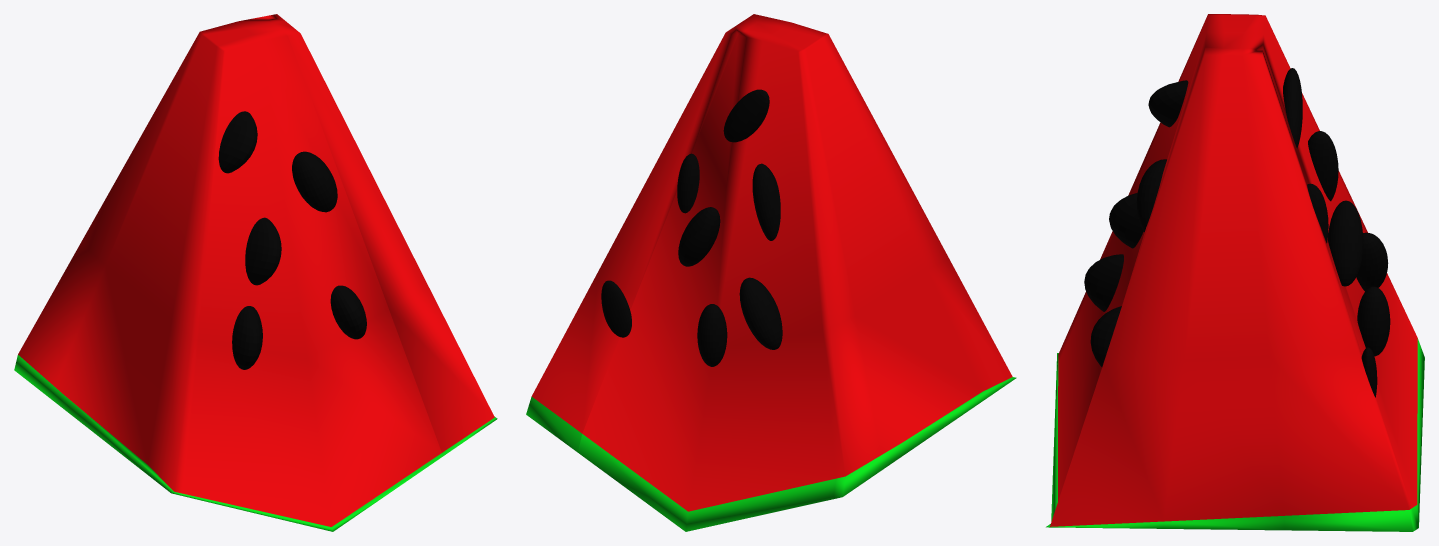
File: watermelon.glb
3 renders of one model, left to right at view 1: azimuth 30°, elevation 25°; view 2: azimuth 150°, elevation 25°; view 3: azimuth 270°, elevation 25°, orthographic. The views are drawn at different scales.
Parts seen in each view (by area): view 1: Cube, Sphere, Sphere.004, Sphere.003, Sphere.002, Sphere.001; view 2: Cube, Sphere.009, Sphere.008, Sphere.005, Sphere.010, Sphere.007, Sphere.011, Sphere.006; view 3: Cube, Sphere.008, Sphere.007, Sphere.002, Sphere.005, Sphere.009, Sphere.004, Sphere.003, Sphere, Sphere.010, Sphere.001, Sphere.006 (+1 smaller).
Boxes of the visible parts, x1,y1,x2,y2 form: Cube: (14, 14, 497, 531); Sphere: (292, 151, 337, 212); Sphere.004: (245, 217, 281, 285); Sphere.003: (218, 111, 257, 173); Sphere.002: (232, 306, 262, 369); Sphere.001: (330, 285, 366, 339); Cube: (526, 14, 1016, 531); Sphere.009: (739, 277, 782, 349); Sphere.008: (678, 207, 720, 266); Sphere.005: (752, 163, 780, 240); Sphere.010: (723, 89, 769, 142); Sphere.007: (697, 304, 727, 366); Sphere.011: (601, 280, 631, 337); Sphere.006: (677, 153, 699, 213); Cube: (1046, 14, 1424, 531); Sphere.008: (1328, 200, 1363, 286); Sphere.007: (1357, 286, 1390, 356); Sphere.002: (1084, 254, 1123, 311); Sphere.005: (1308, 131, 1338, 201); Sphere.009: (1356, 232, 1388, 291); Sphere.004: (1109, 193, 1143, 248); Sphere.003: (1148, 80, 1188, 127); Sphere: (1136, 159, 1166, 232); Sphere.010: (1283, 68, 1302, 148); Sphere.001: (1090, 306, 1121, 367); Sphere.006: (1307, 183, 1328, 243).
Bounding box in the file's own units: 1.18 × 1.5 × 1.06.
